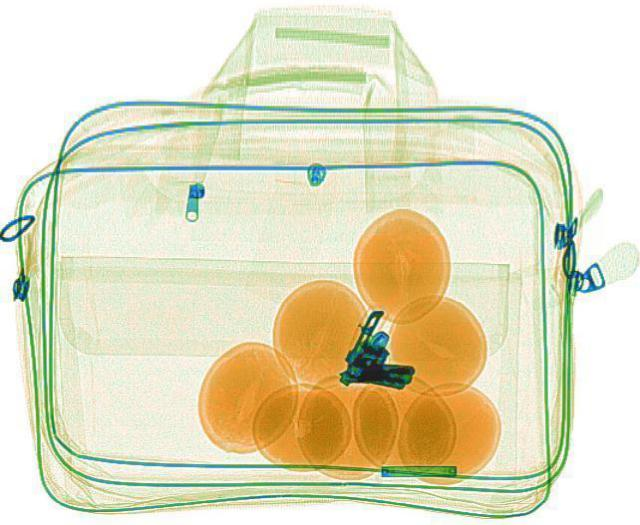Gun: (331, 305, 439, 398), (342, 329, 428, 394)
